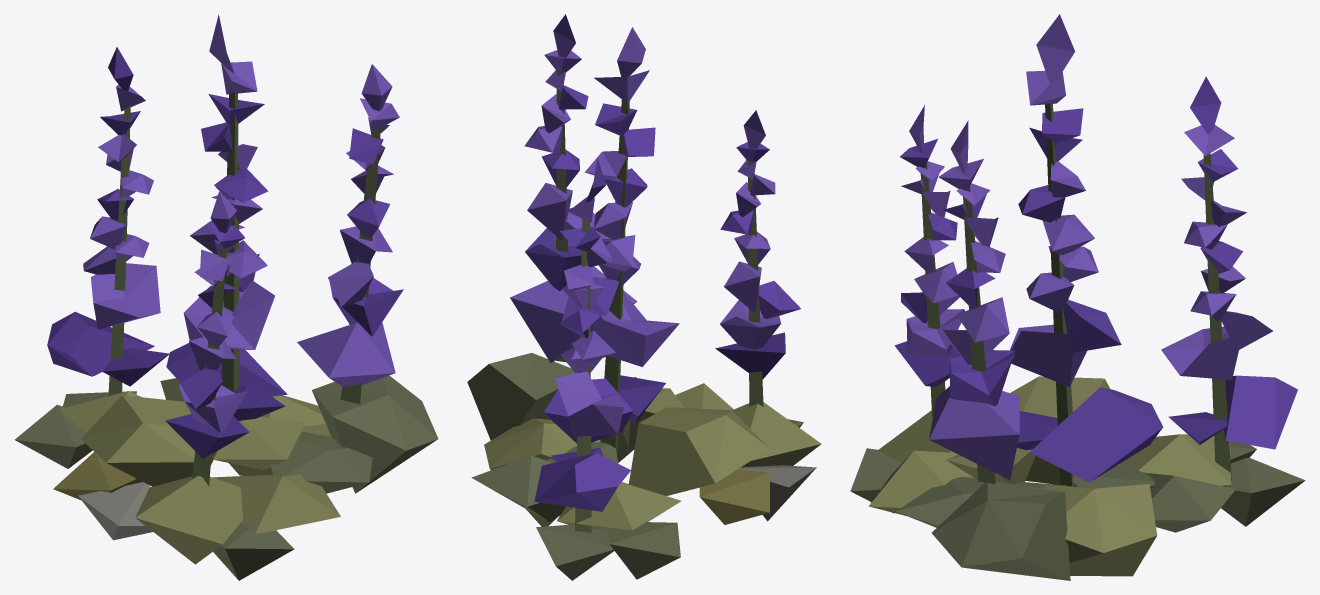
Rendered from SM_Env_Plant_Tall_02.obj.
3 renders of one model, left to right at view 1: azimuth 30°, elevation 25°; view 2: azimuth 150°, elevation 25°; view 3: azimuth 270°, elevation 25°, orthographic. The views are drawn at different scales.
Parts seen in each view (by area): view 1: SM_Env_Plant_Tall_02_0; view 2: SM_Env_Plant_Tall_02_0; view 3: SM_Env_Plant_Tall_02_0.
Boxes of the visible parts, x1,y1,x2,y2 form: SM_Env_Plant_Tall_02_0: (15,14,438,580); SM_Env_Plant_Tall_02_0: (467,14,821,580); SM_Env_Plant_Tall_02_0: (850,14,1305,580).
Bounding box in the file's own units: 1.29 × 1.83 × 1.41.
1 material, 1 textured.
